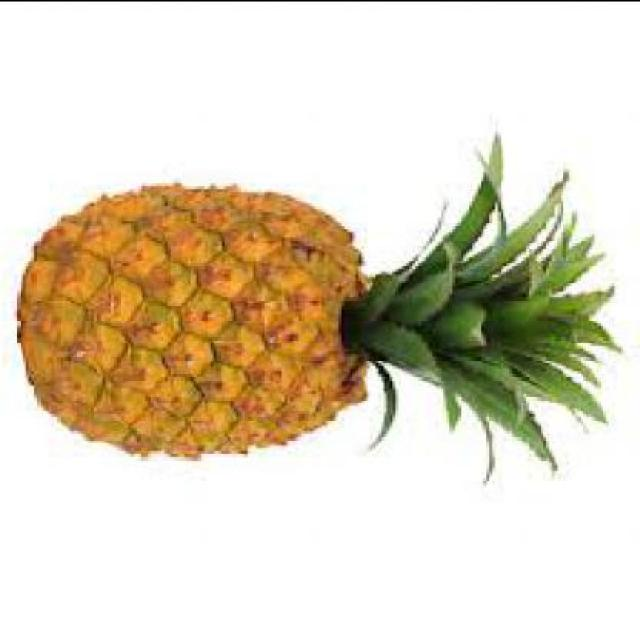BIODEGRADABLE: (11, 131, 634, 469), (20, 184, 375, 456), (352, 131, 626, 475)
